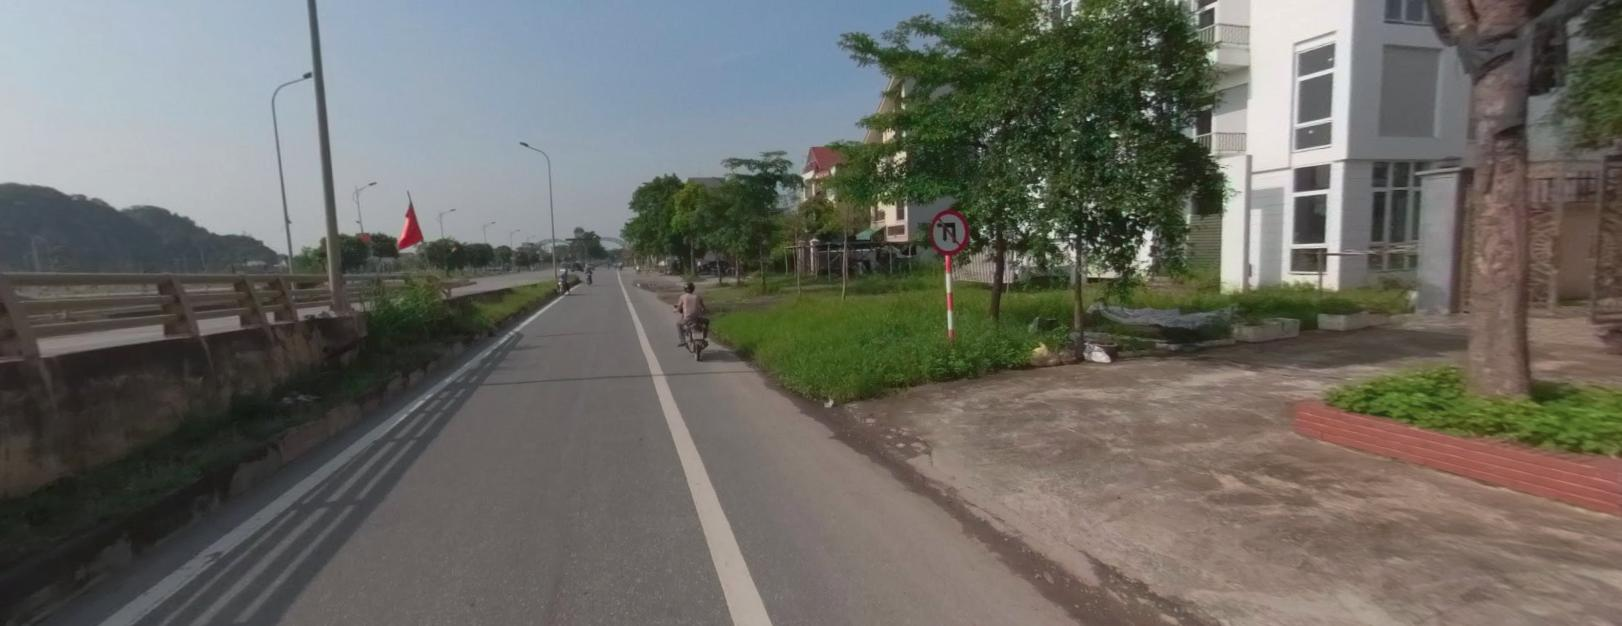Cam re: (925, 209, 969, 255)
